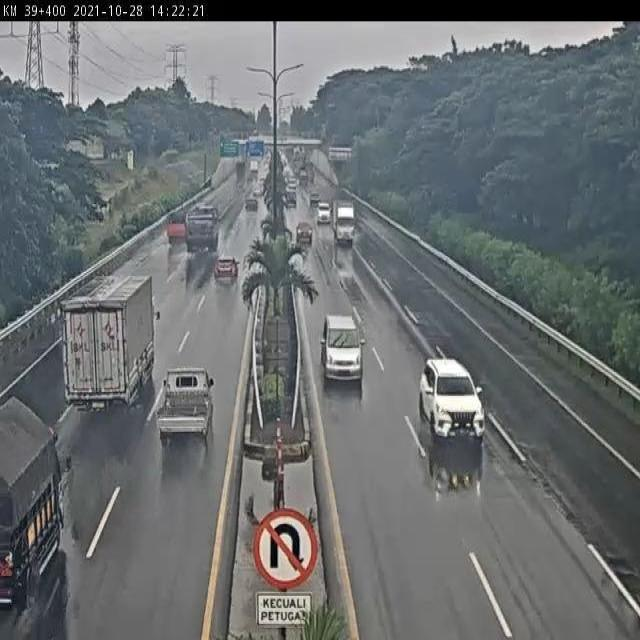Car: (419, 356, 486, 445), (212, 257, 240, 280), (295, 223, 314, 244), (316, 201, 332, 224), (244, 198, 259, 212), (309, 191, 321, 206)
Truck: (0, 393, 73, 619), (59, 272, 162, 416), (156, 365, 217, 450), (185, 203, 222, 256), (332, 198, 357, 246), (166, 210, 192, 246), (235, 160, 245, 179), (249, 159, 259, 173)
Van: (321, 315, 366, 386)
